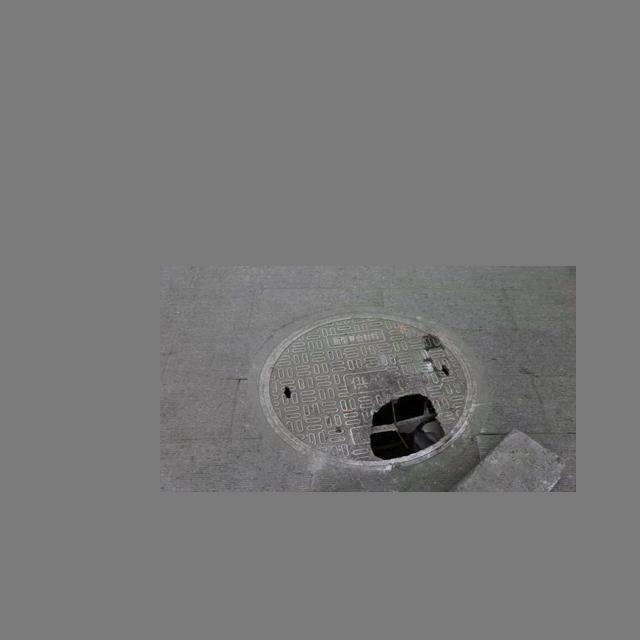broke: (249, 303, 484, 468)
